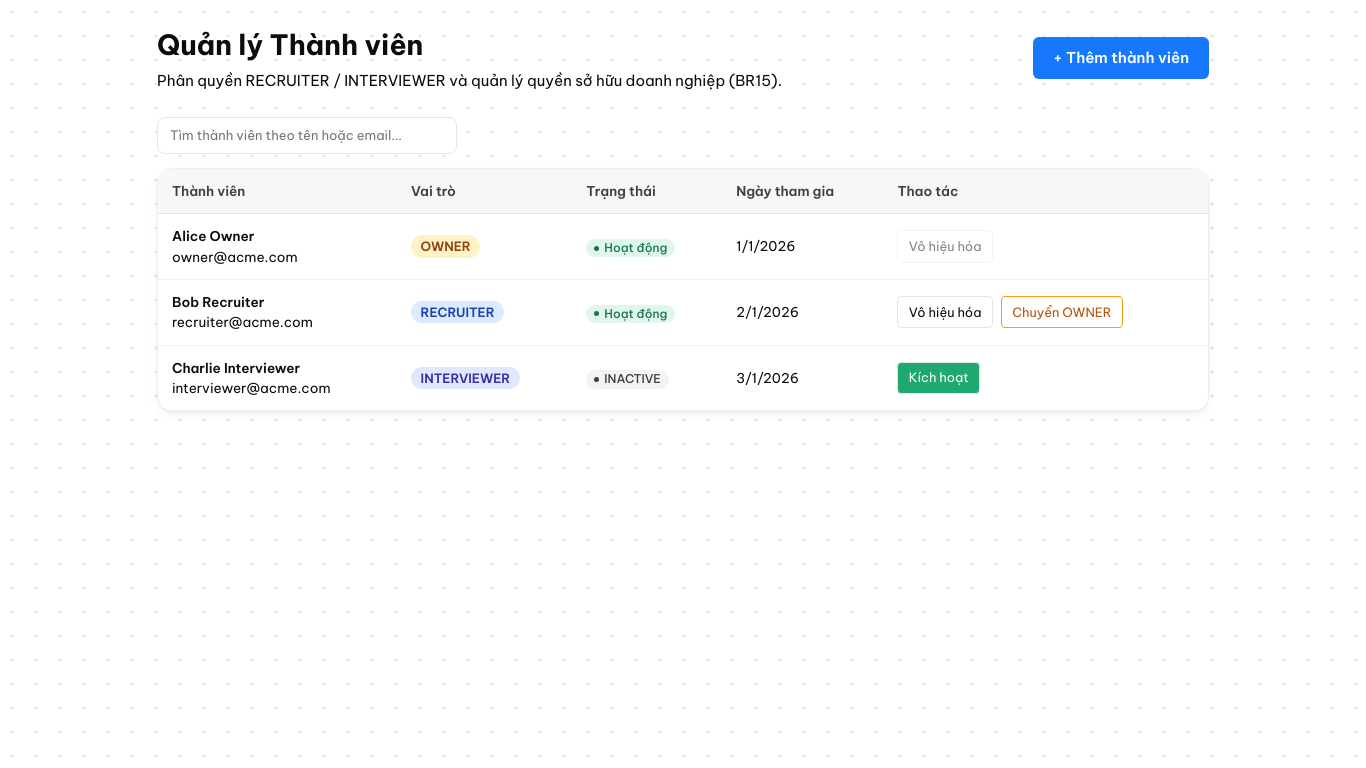
Test: CompanyMembersPage (UI16) › opens add member dialog and submits successfully
Expected: the text "Alice Owner" is shown, 172,227 -> 254,245
Click the button with test id "add-member-open-btn" at (1121, 58), box 1033,37 -> 1209,79
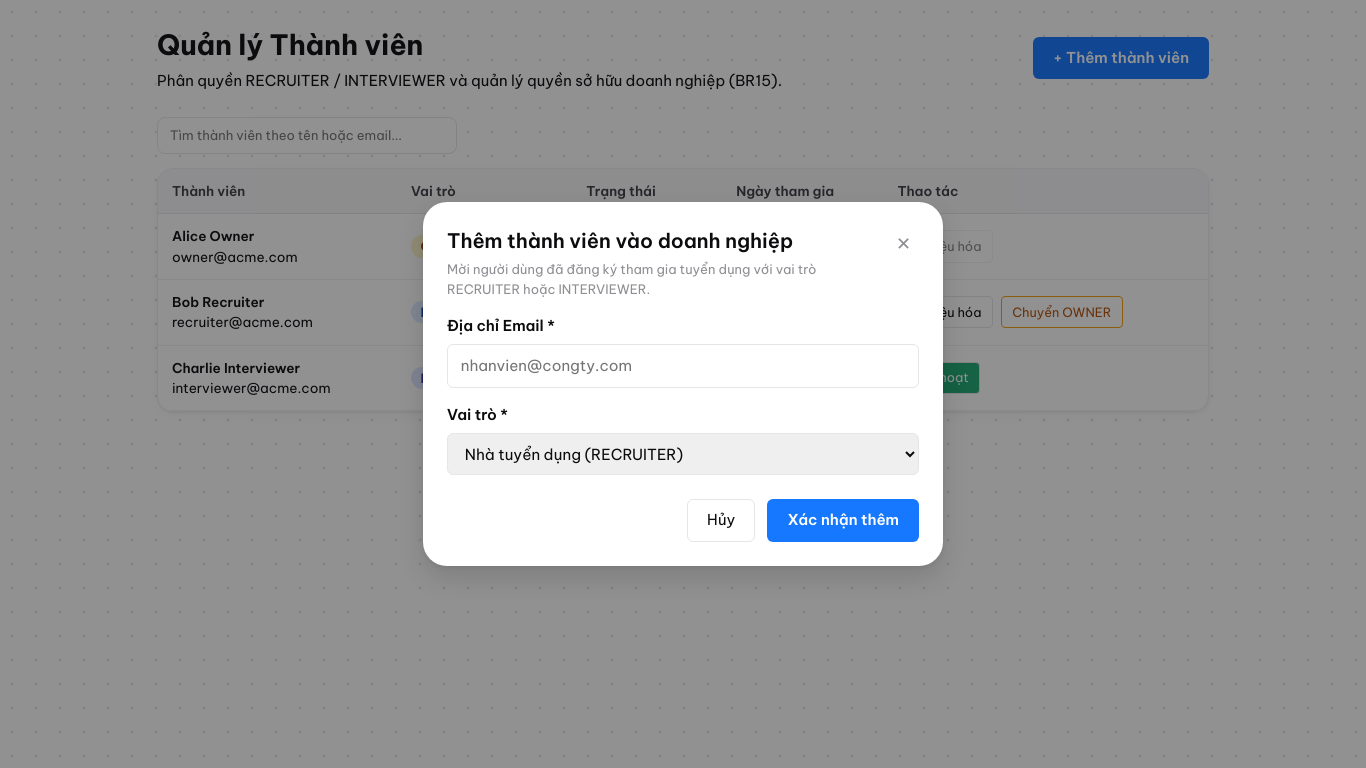
Now the form with test id "add-member-form" is shown, box 447,316 -> 919,542
Type "newuser@acme.com" into the field with test id "add-member-email-input" at (683, 366), box 447,344 -> 919,388
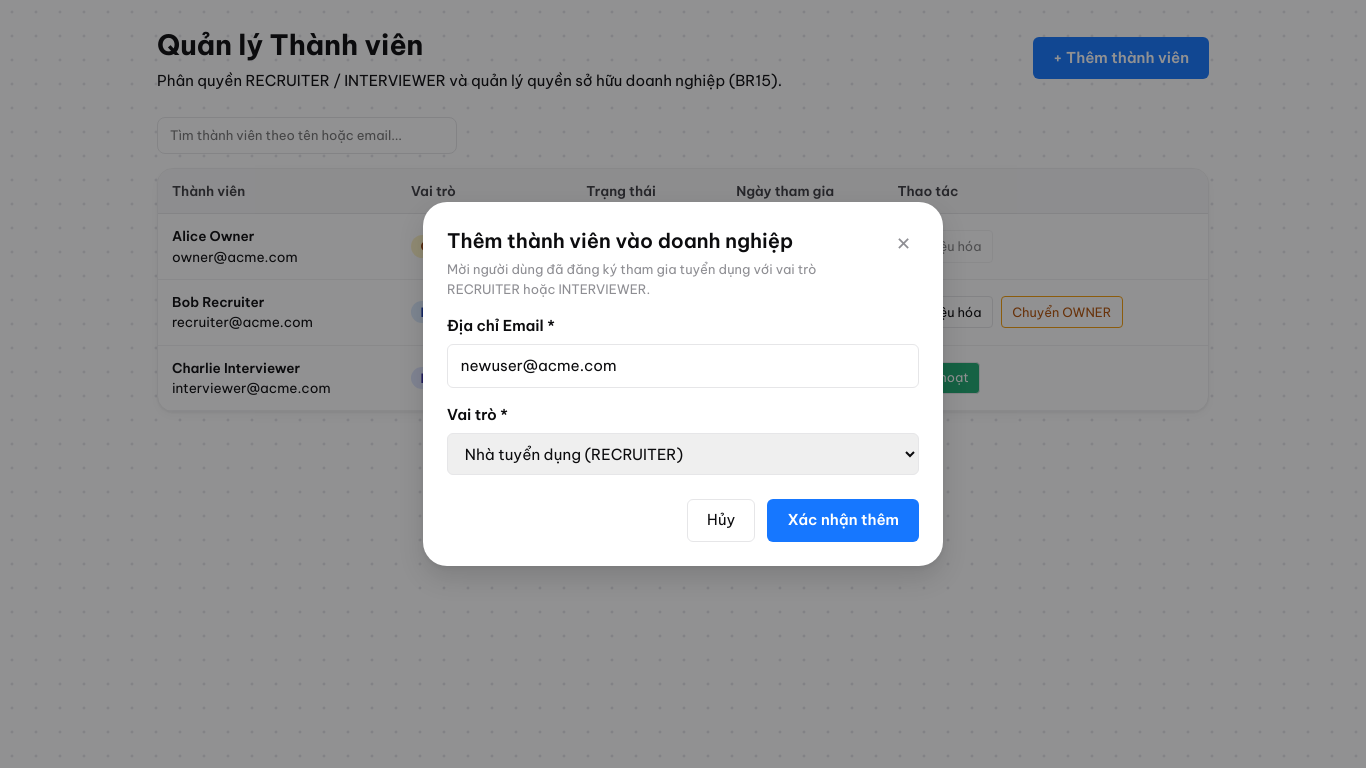
Select "Người phỏng vấn (INTERVIEWER)" in the dropdown with test id "add-member-role-select" at (683, 454), box 447,433 -> 919,475
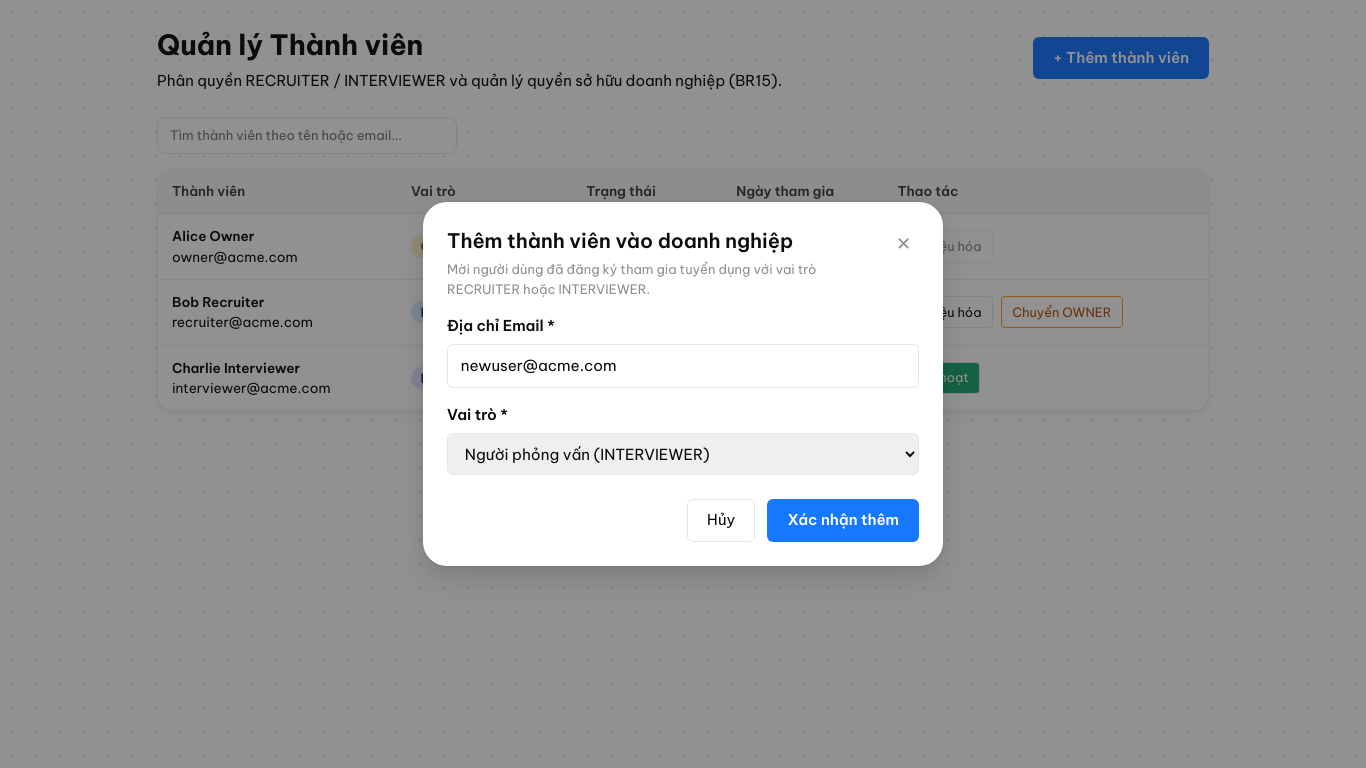
Click the button with test id "submit-add-member-btn" at (843, 520), box 767,499 -> 919,542
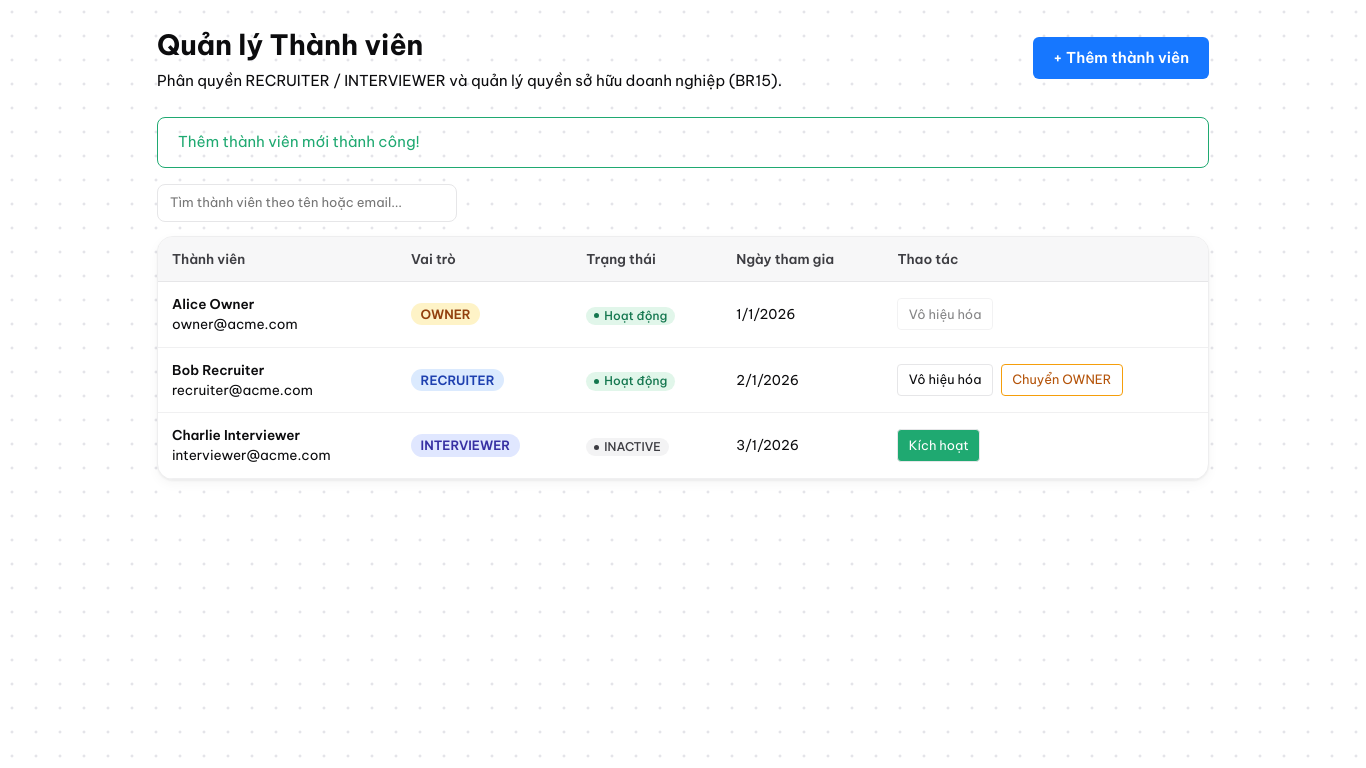
Now the text "Thêm thành viên mới thành công!" is shown, box 157,116 -> 1209,168
